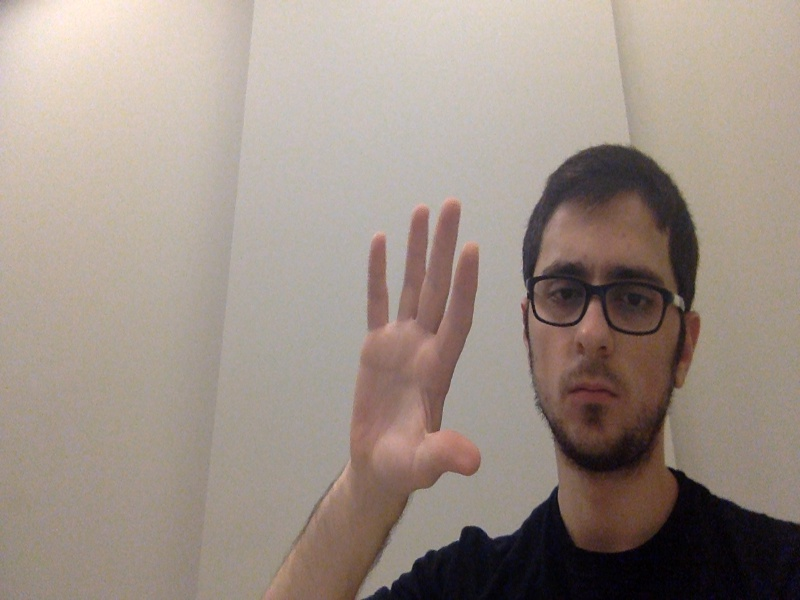5-hand: (348, 197, 486, 490)
